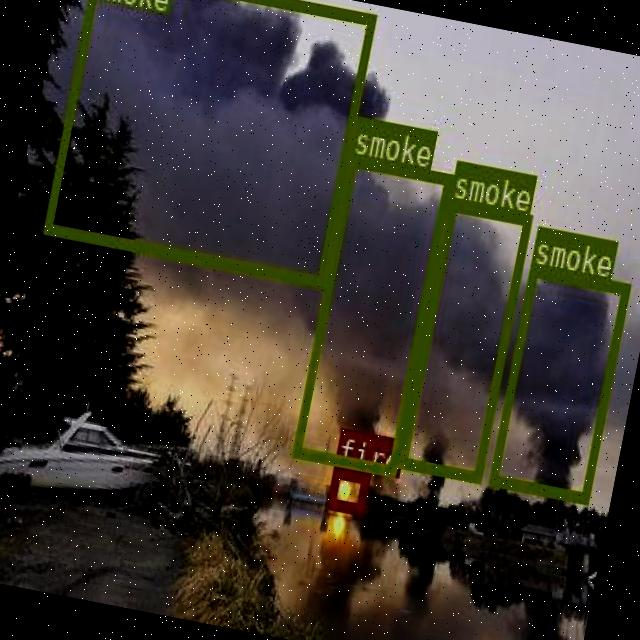fire: (325, 466, 370, 514)
smoke: (42, 0, 375, 285), (292, 154, 452, 475), (398, 197, 531, 480), (487, 264, 629, 502)
